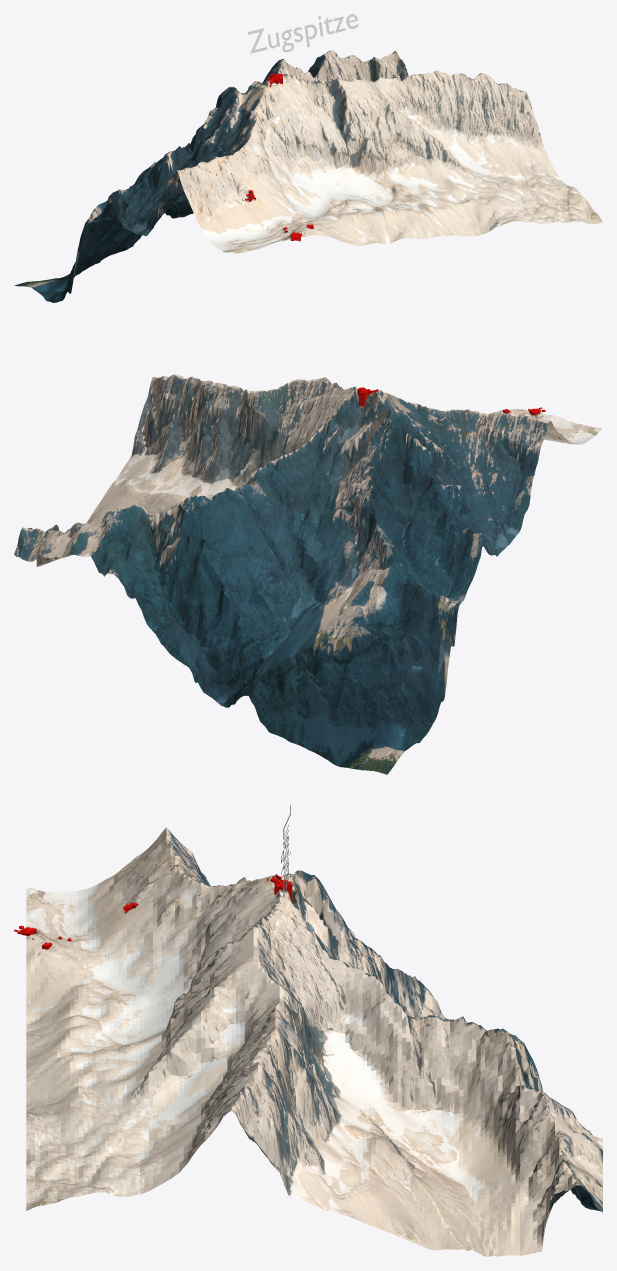
File: asset.glb
3 views of the same model, one above another, from view 1: azimuth 30°, elevation 25°; view 2: azimuth 150°, elevation 25°; view 3: azimuth 270°, elevation 25° (orthographic). The views are drawn at different scales.
Visible parts, largest first — view 1: Zugspitze_DGM_15m_verbessert_Blender, Text; view 2: Zugspitze_DGM_15m_verbessert_Blender; view 3: Zugspitze_DGM_15m_verbessert_Blender, B.
Part boxes in pixels (<box>): Zugspitze_DGM_15m_verbessert_Blender: <box>14,50,602,302</box>; Text: <box>248,14,358,53</box>; Zugspitze_DGM_15m_verbessert_Blender: <box>14,374,602,774</box>; Zugspitze_DGM_15m_verbessert_Blender: <box>26,827,602,1256</box>; B: <box>14,874,292,949</box>.
Size of the model in its own units: 1985 by 1594 by 2028.
2 materials, 1 textured.
